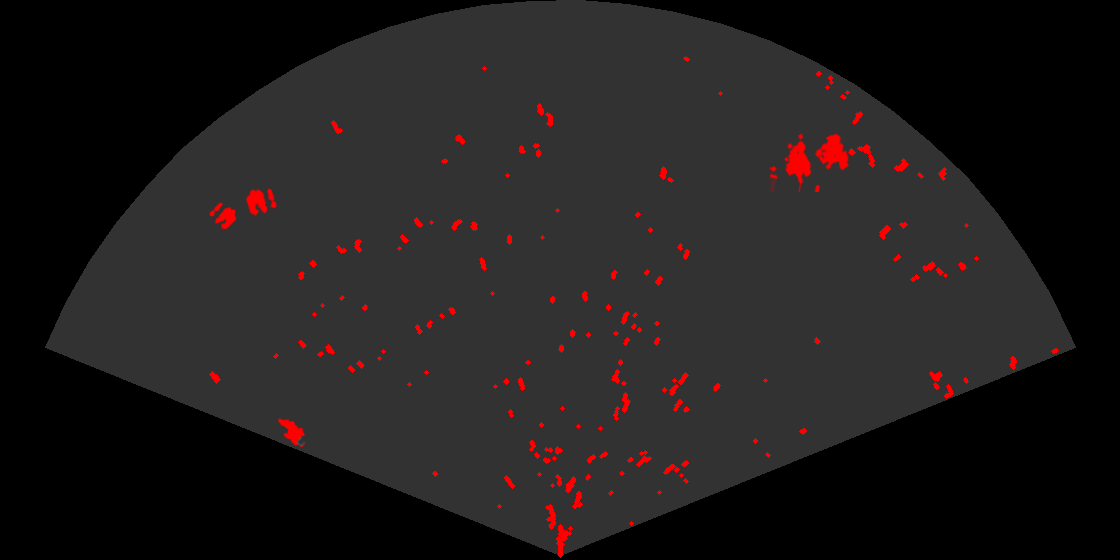AUV: (276, 417, 307, 449)
ball: (244, 186, 278, 218), (208, 201, 238, 231)
cage: (770, 132, 851, 192)
